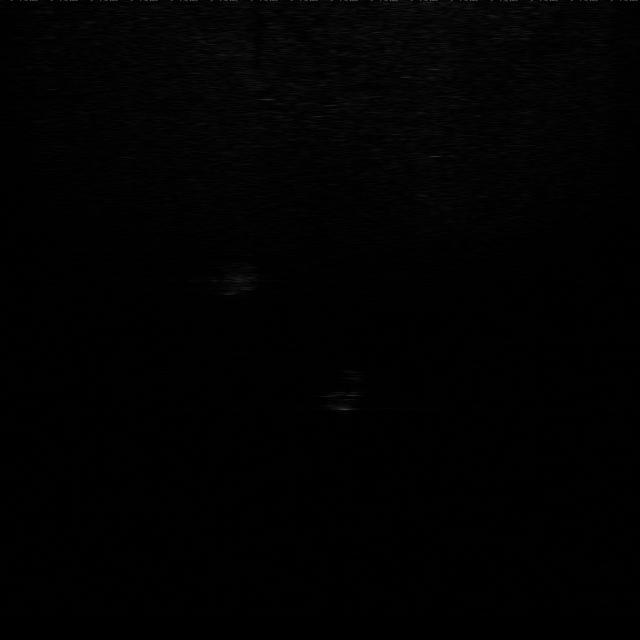circle cage: (212, 262, 266, 300)
tyre: (318, 367, 374, 414)
